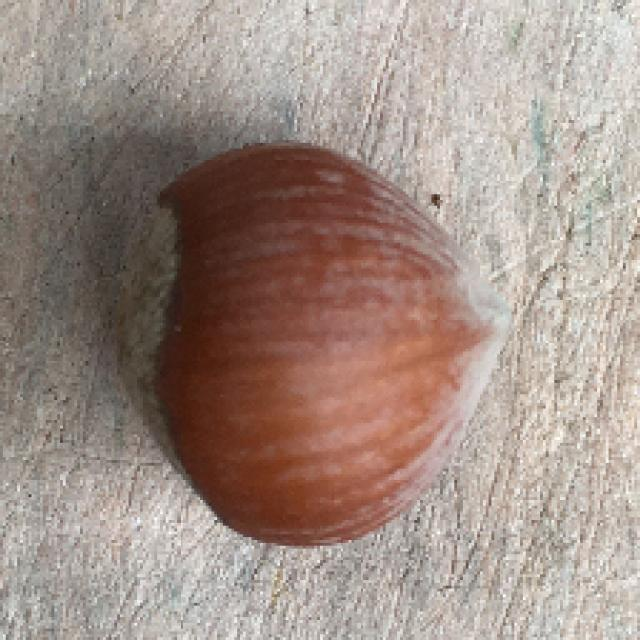qualityHazelnut: (114, 134, 509, 556)
